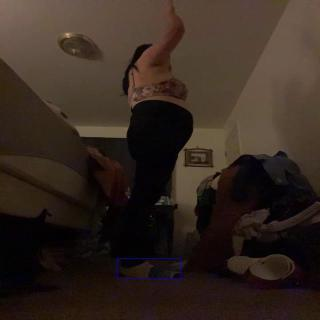person - v3 P: (116, 14, 195, 284)
